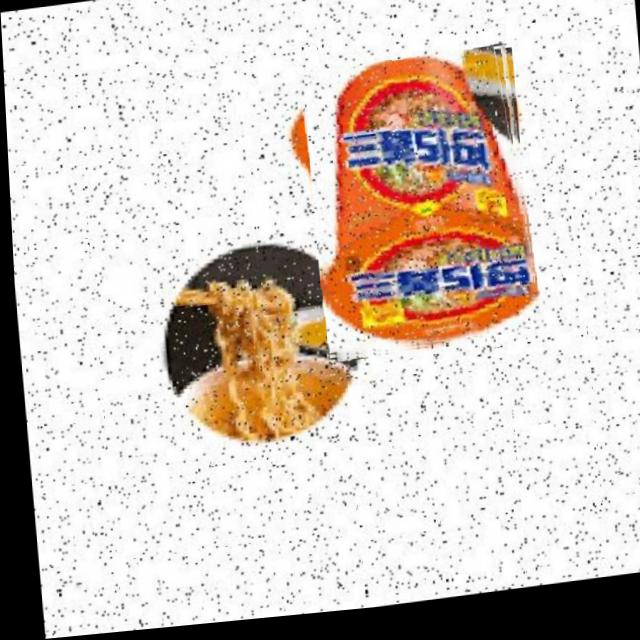Miscellaneous: (300, 52, 536, 368)
